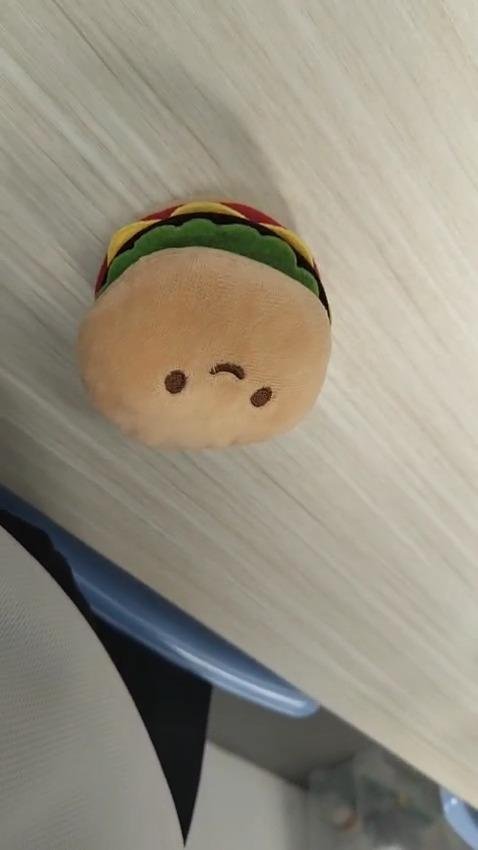hamburger: (81, 196, 335, 456)
